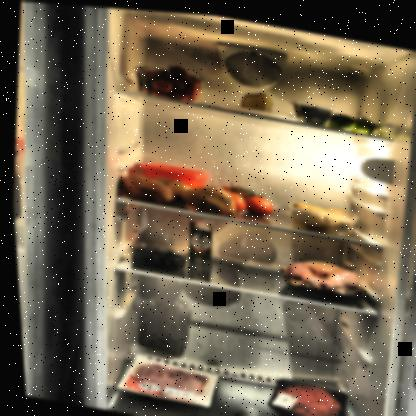blueberries: (126, 243, 182, 272)
butter: (142, 157, 207, 188)
cheese: (236, 84, 276, 113)
chicken: (273, 247, 367, 303)
ground_beef: (258, 368, 340, 415)
heavy_cream: (182, 214, 215, 269)
lime: (313, 102, 382, 133)
potato: (284, 192, 359, 234)
strawberries: (137, 56, 205, 103)
sweet_potato: (107, 167, 237, 214)
tomato: (210, 174, 277, 216)
